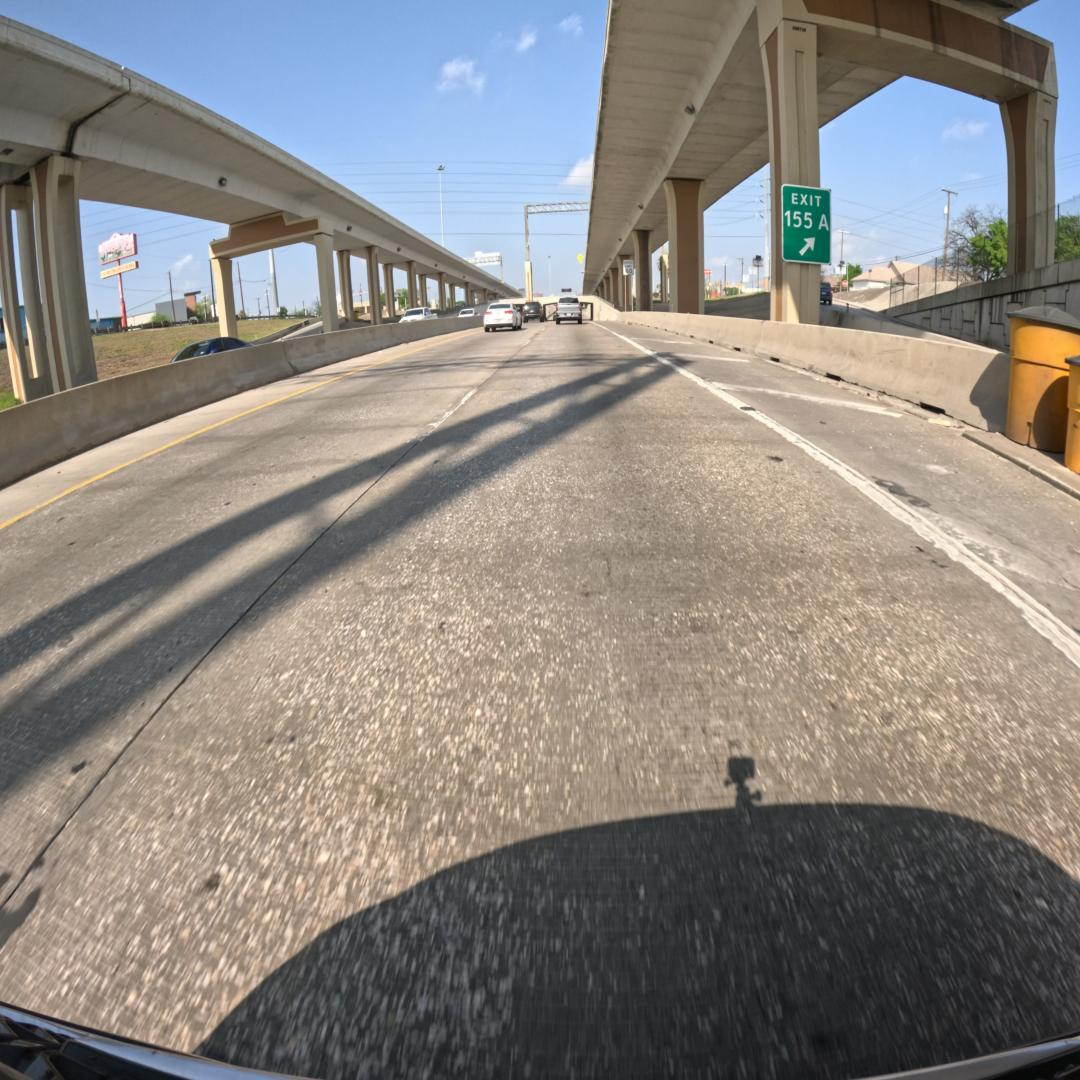lane0: (0, 328, 1080, 1077)
lane1: (0, 330, 537, 914)
